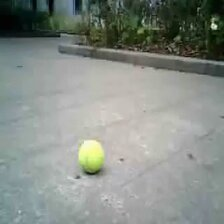tennis: (79, 140, 103, 173)
